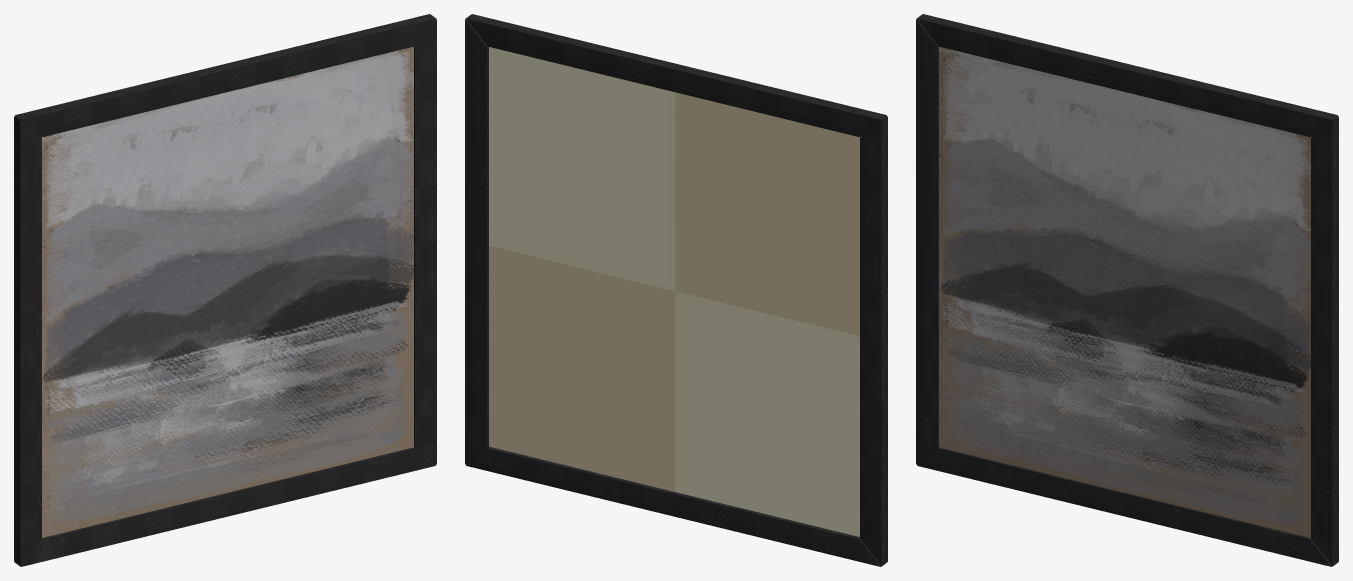
The model's file is art24.dae.
3 views of the same model, side by side, from view 1: azimuth 30°, elevation 25°; view 2: azimuth 150°, elevation 25°; view 3: azimuth 330°, elevation 25° (orthographic).
Parts seen in each view (by area): view 1: group_2, group_0; view 2: group_1, group_0; view 3: group_2, group_0.
Part boxes in pixels (left/top/right/bottom): group_2: left=41, top=46, right=413, bottom=537; group_0: left=14, top=14, right=436, bottom=566; group_1: left=489, top=47, right=860, bottom=536; group_0: left=465, top=14, right=887, bottom=566; group_2: left=939, top=46, right=1311, bottom=537; group_0: left=916, top=14, right=1338, bottom=566.
Bounding box in the file's own units: 38 × 1 × 39.
Materials: 4 (3 with a texture image).
